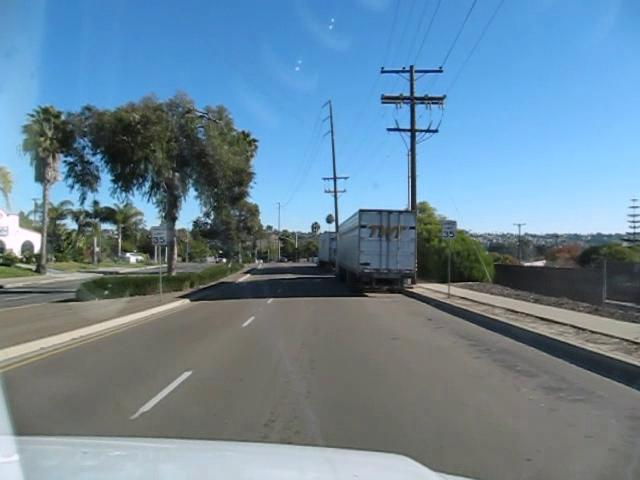speedLimit35: (149, 226, 166, 247), (442, 220, 456, 238)
